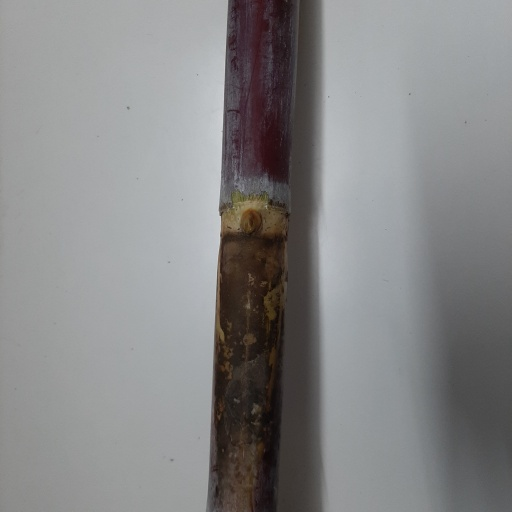Bud: (240, 208, 263, 239)
